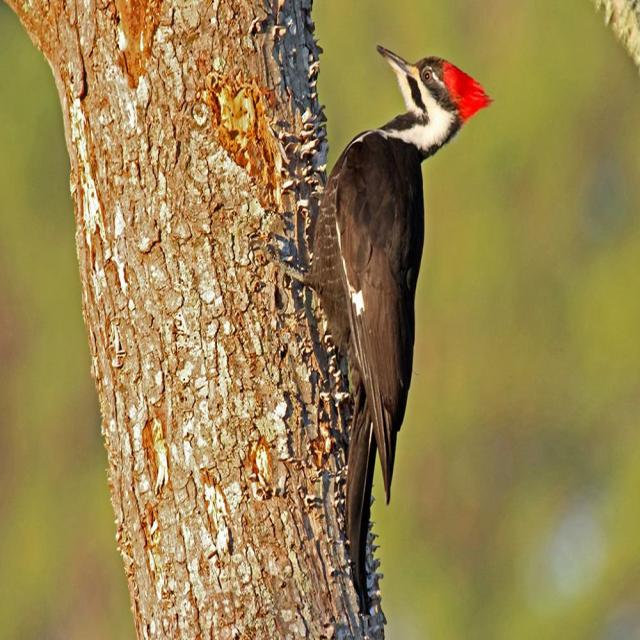woodpecker: (303, 46, 492, 590)
